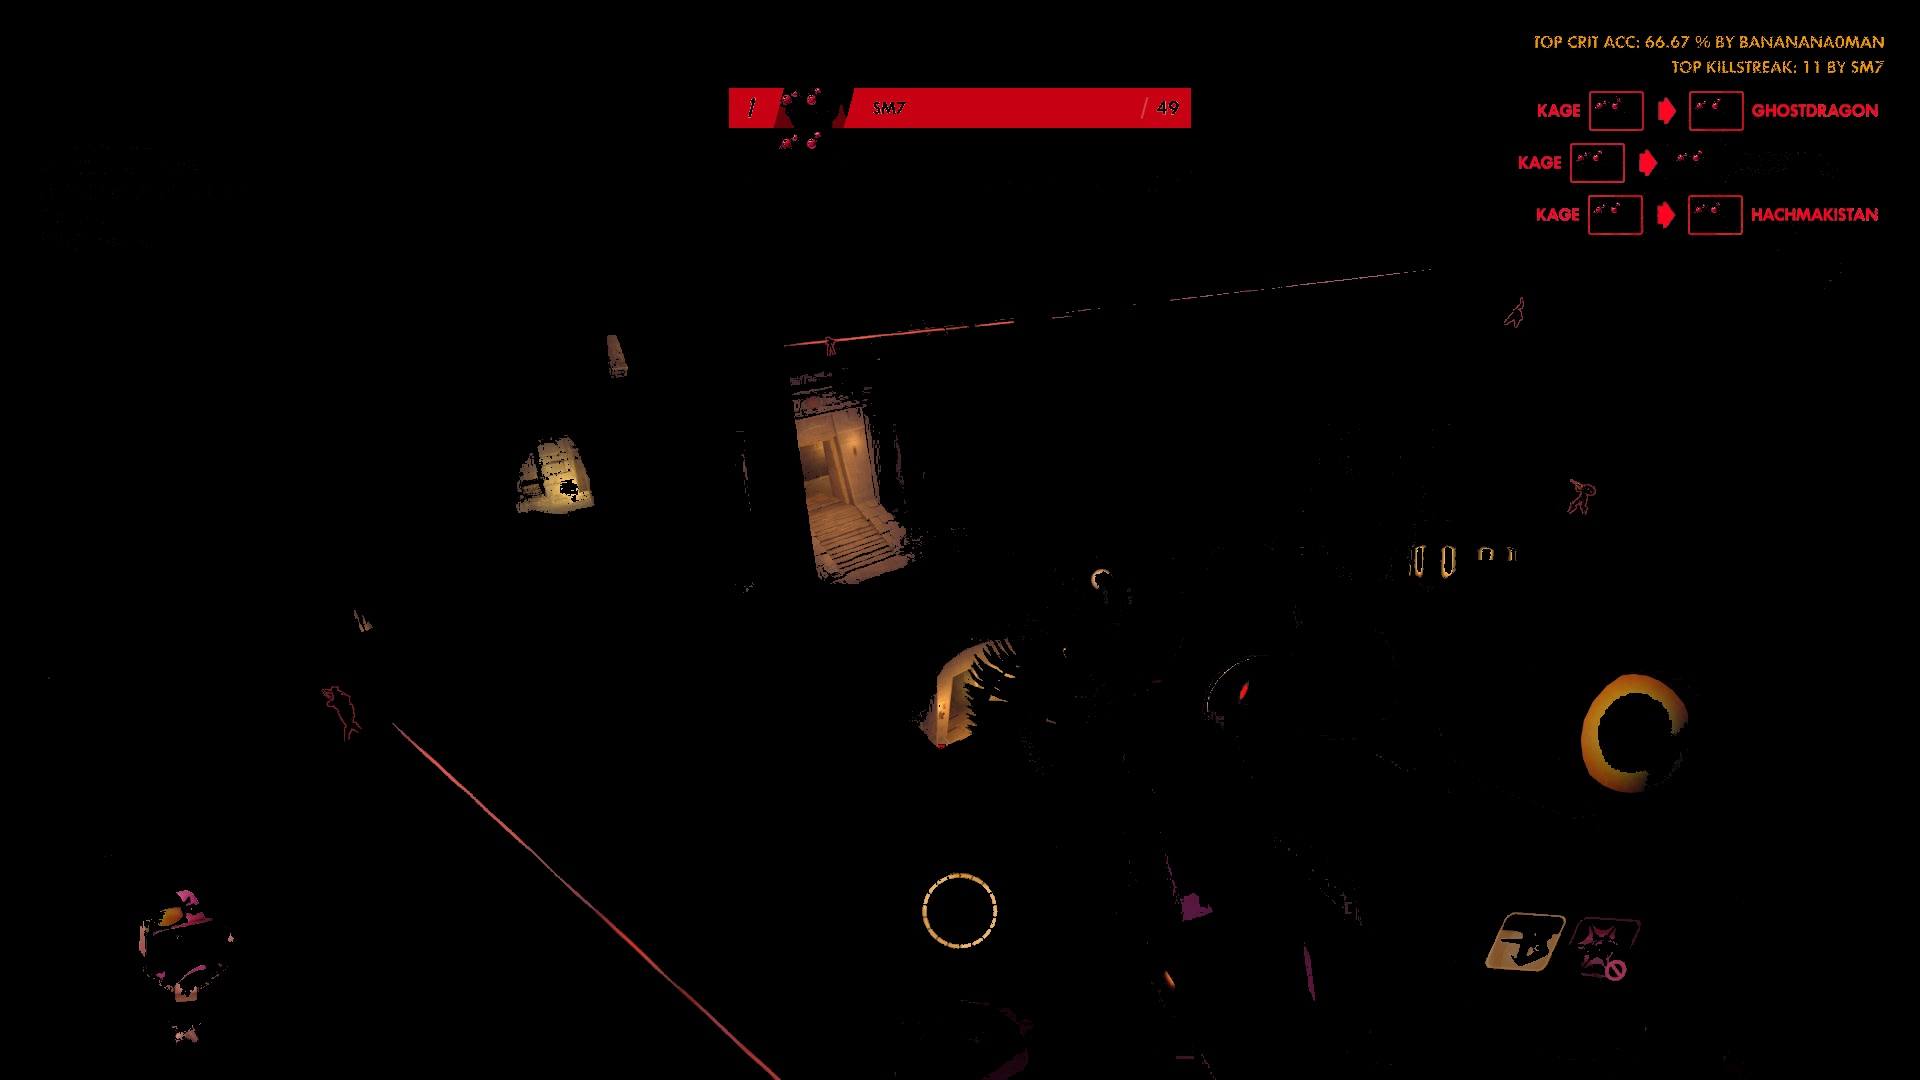widowmaker: (316, 680, 369, 756), (1557, 476, 1600, 529), (1505, 297, 1527, 332), (820, 332, 841, 363)
